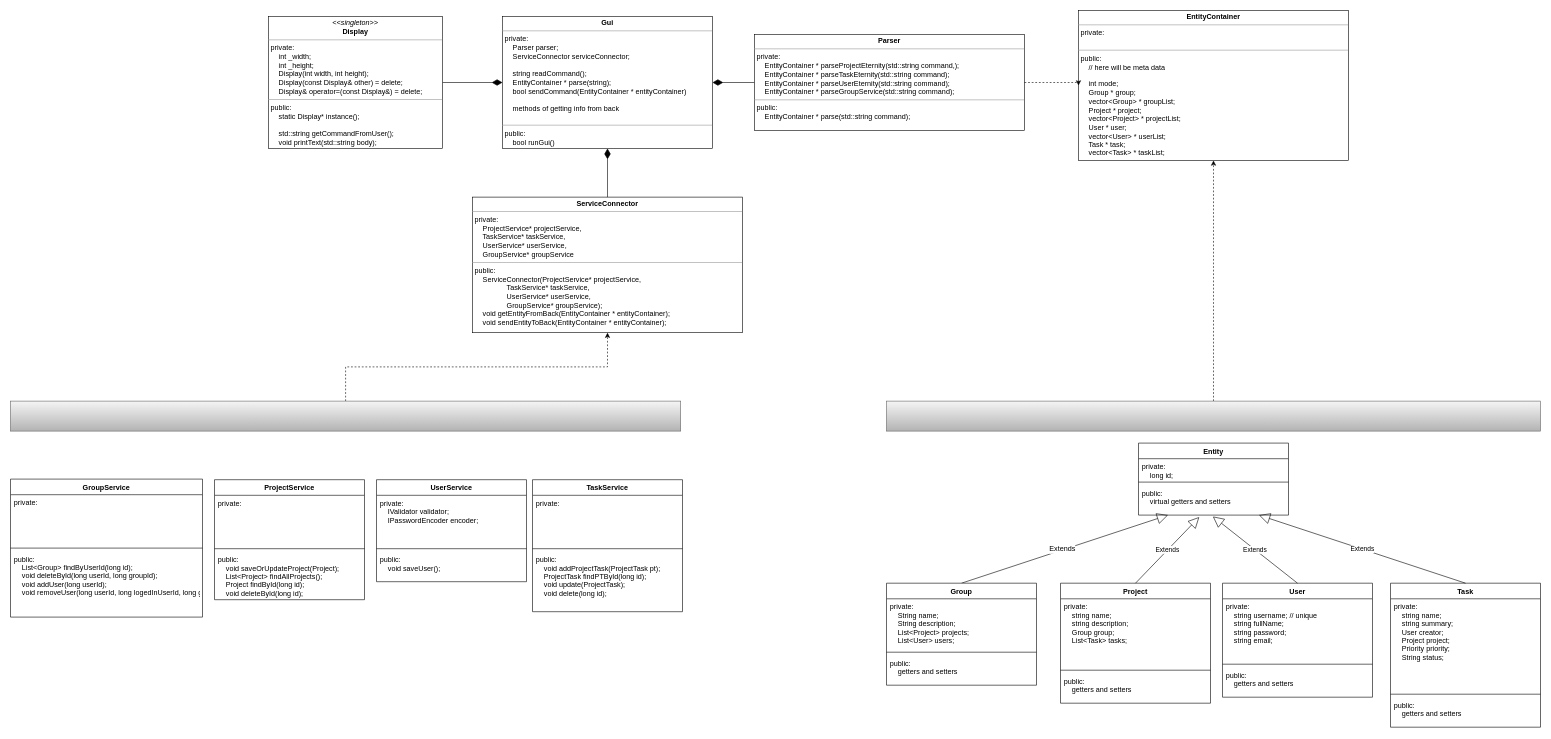
Image size: 1551x739. Some labels were removed from this diagram. The centre of each missing label's shape, as x and y in pixels:
"All entities" belongs at [1213,415].
"All services" belongs at [345,415].
